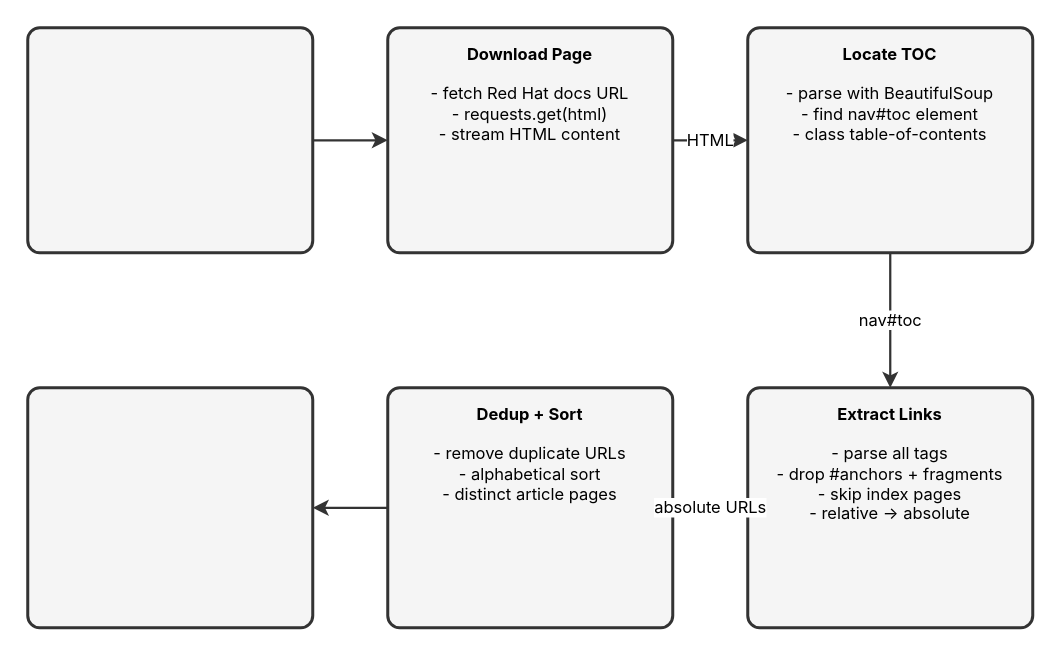
Image size: 1059x654. Some labels were removed from this diagram. Each missing label, with the centre of its shape:
"Result - JSON: count + articles - or plain URL list - stdout or --output file" belongs at (x=170, y=507).
"toc_extractor.py - --url (required) - --format json | list - --output FILE" belongs at (x=170, y=140).
